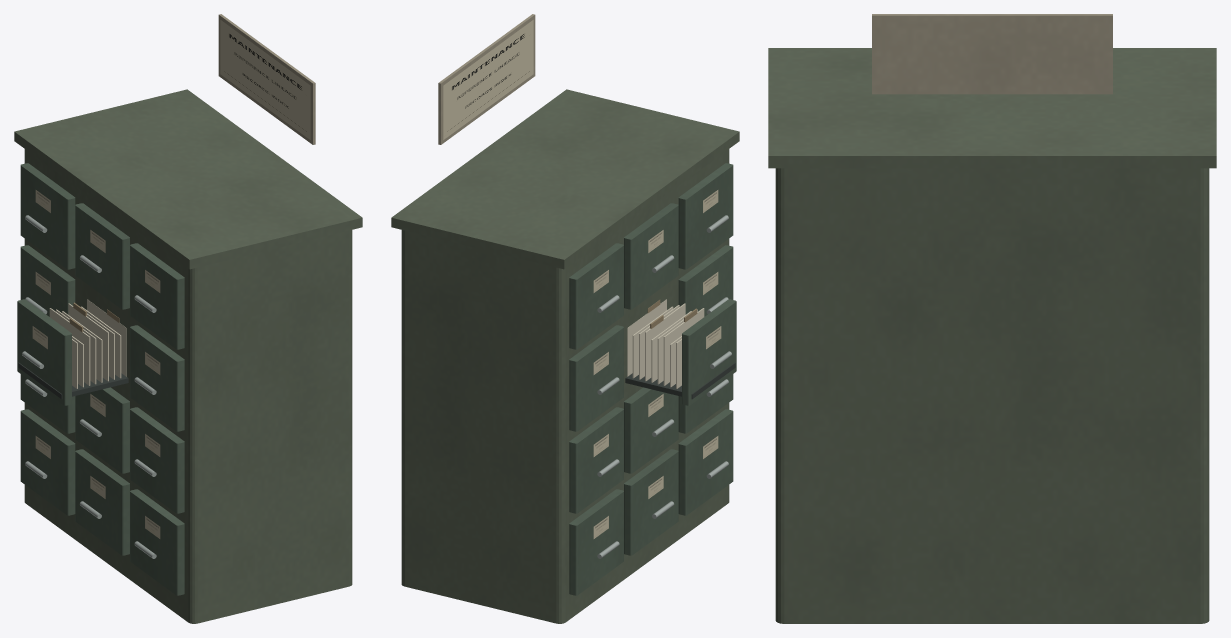
Rendered from SM_ArchiveProps_CardIndex.fbx.
3 views of the same model, side by side, from view 1: azimuth 30°, elevation 25°; view 2: azimuth 150°, elevation 25°; view 3: azimuth 270°, elevation 25° (orthographic). The views are drawn at different scales.
Visible parts, largest first — view 1: SM_ArchiveProps_CardIndex; view 2: SM_ArchiveProps_CardIndex; view 3: SM_ArchiveProps_CardIndex.
Boxes of the visible parts, <box> form: SM_ArchiveProps_CardIndex: <box>14,14,362,623</box>; SM_ArchiveProps_CardIndex: <box>391,14,739,623</box>; SM_ArchiveProps_CardIndex: <box>768,14,1216,623</box>.
Bounding box in the file's own units: 0.748 × 0.93 × 1.39.
